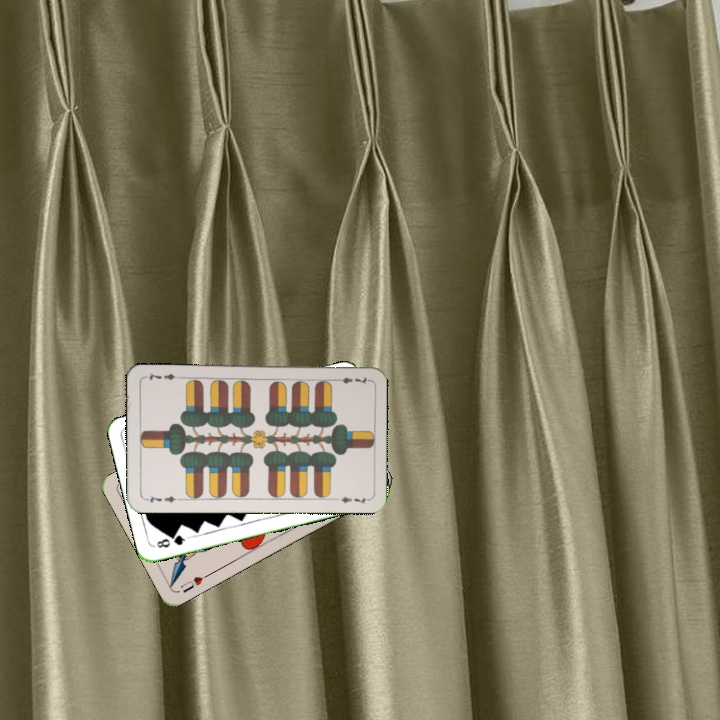E7: (141, 492, 182, 506), (330, 373, 370, 387)
G8: (153, 531, 191, 550)
HU: (176, 570, 212, 596)
